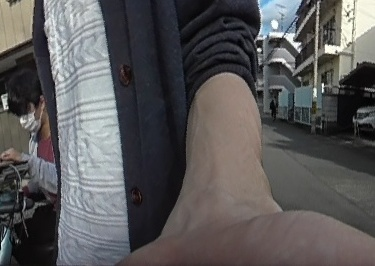person: (4, 72, 67, 255), (269, 95, 279, 118)
